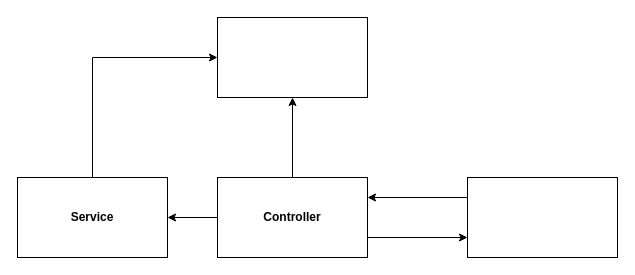
Image size: 635x275. Some labels were removed from this diagram. Each missing label, with the box of its shape:
Model: (216, 16, 368, 98)
View: (466, 176, 618, 258)
